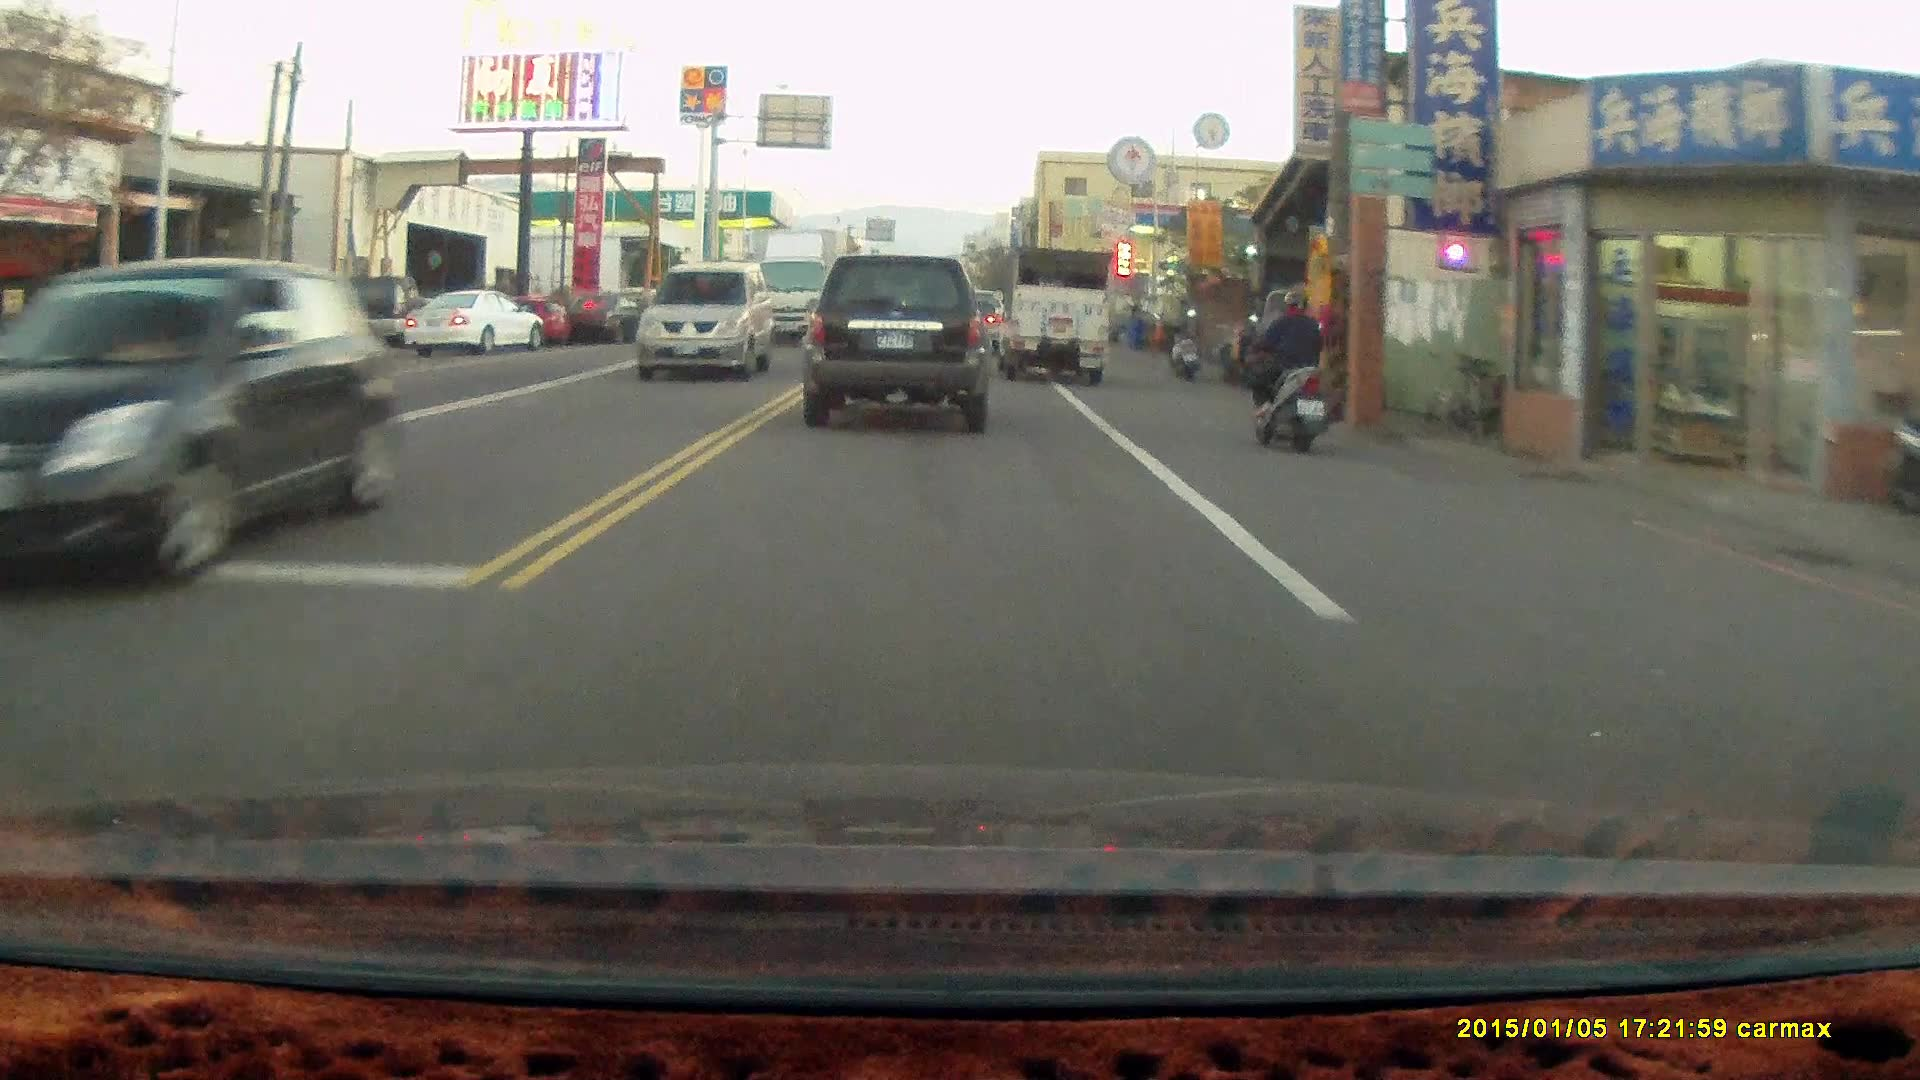rider: (1239, 282, 1333, 451)
vehicle: (15, 255, 401, 612), (802, 253, 996, 432), (640, 260, 780, 378), (995, 241, 1113, 383), (407, 286, 549, 359)
